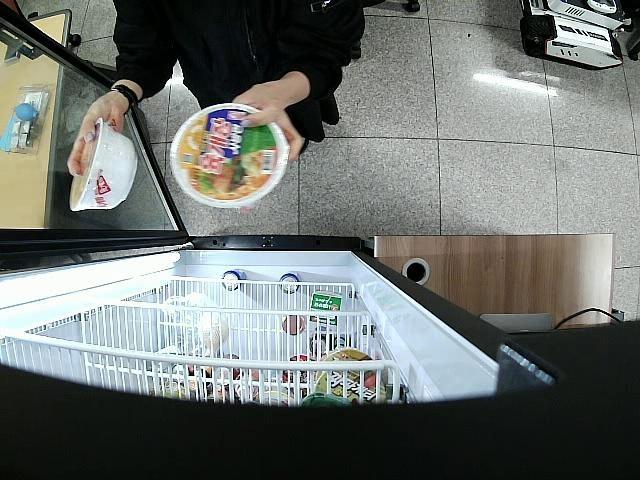09_yukGaeJang: (170, 102, 288, 210), (68, 118, 138, 212)
